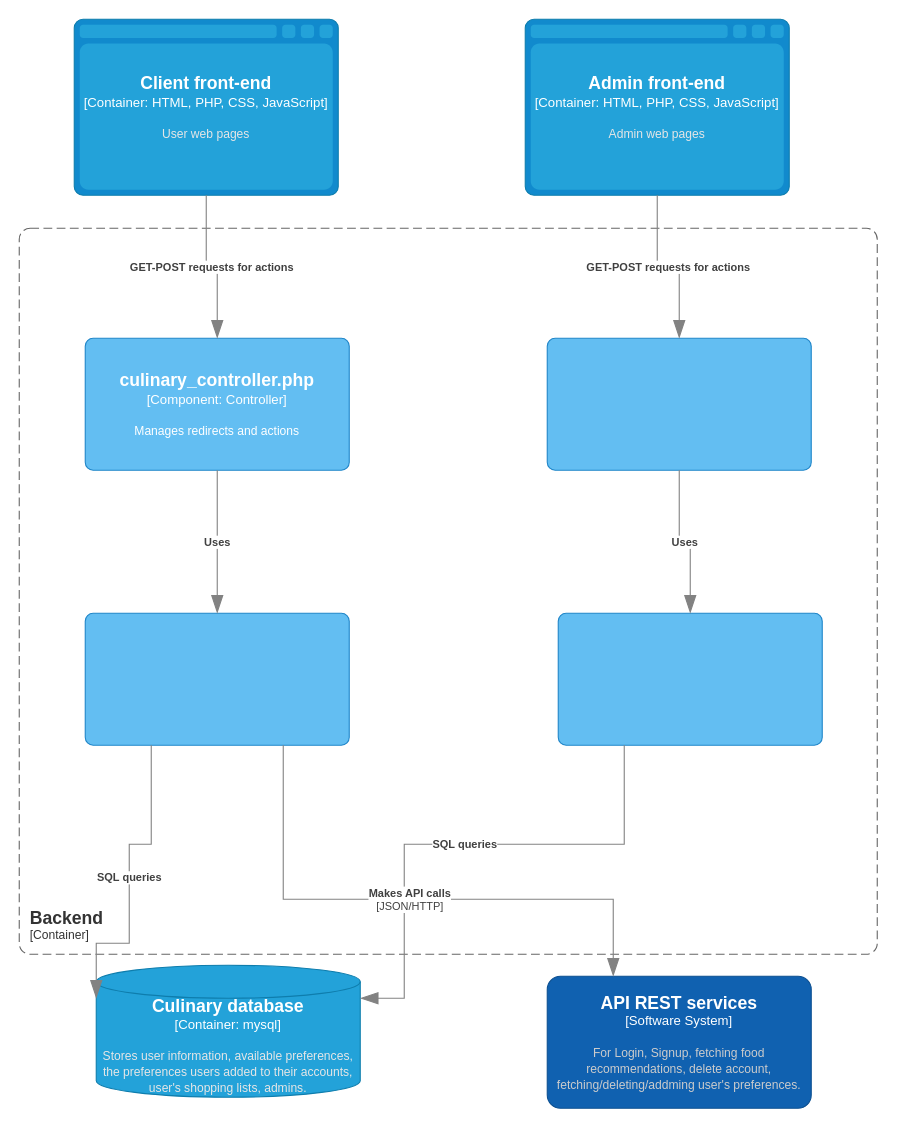
The diagram is 897 pixels wide and 1128 high, and some of its shapes have lost their labels. The centre of each missing label's shape, as x and y in pixels:
admin_controller.php [Component: Controller] Manages redirects and actions: (678,403)
admin_model.php [Component: Model] Model for admin controller: (689,678)
culinary_model.php [Component: Model] Model for user controller: (216,678)
